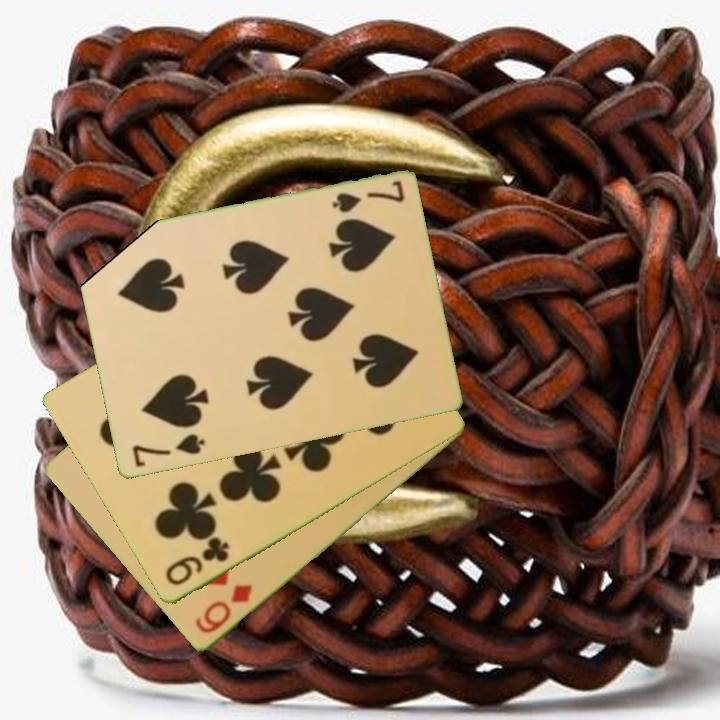6d: (191, 580, 255, 638)
7s: (128, 431, 207, 471), (328, 177, 407, 217)
9c: (161, 535, 232, 590)
